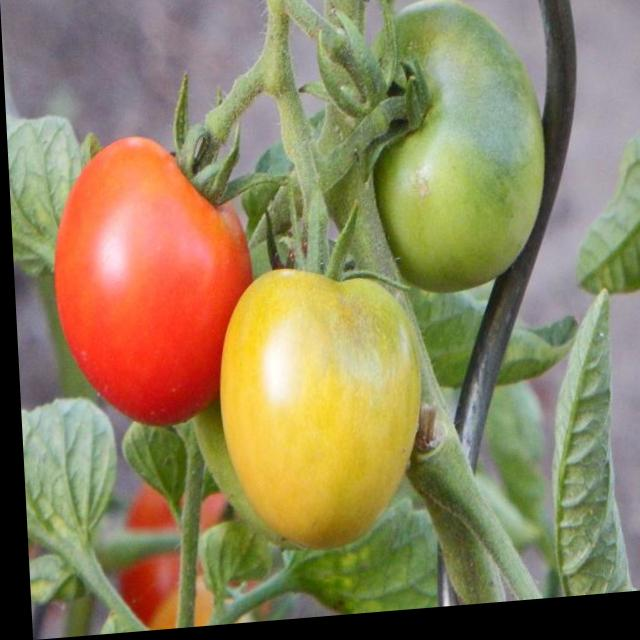kirmizi: (15, 119, 227, 455)
sari: (228, 261, 439, 554)
yesil: (334, 16, 571, 295)
